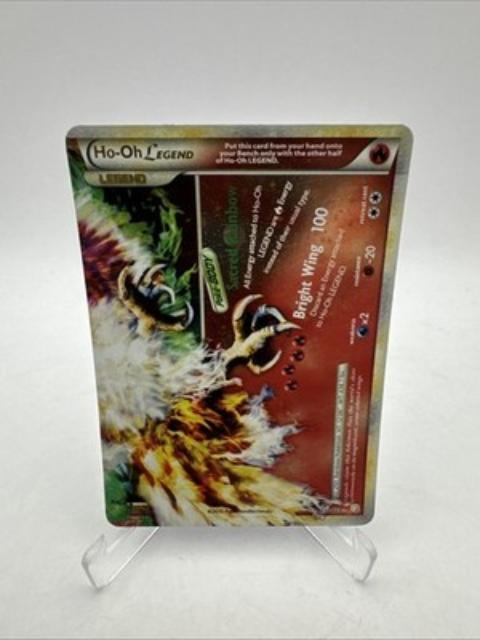Card: (61, 121, 417, 532)
Name: (89, 142, 196, 168)
